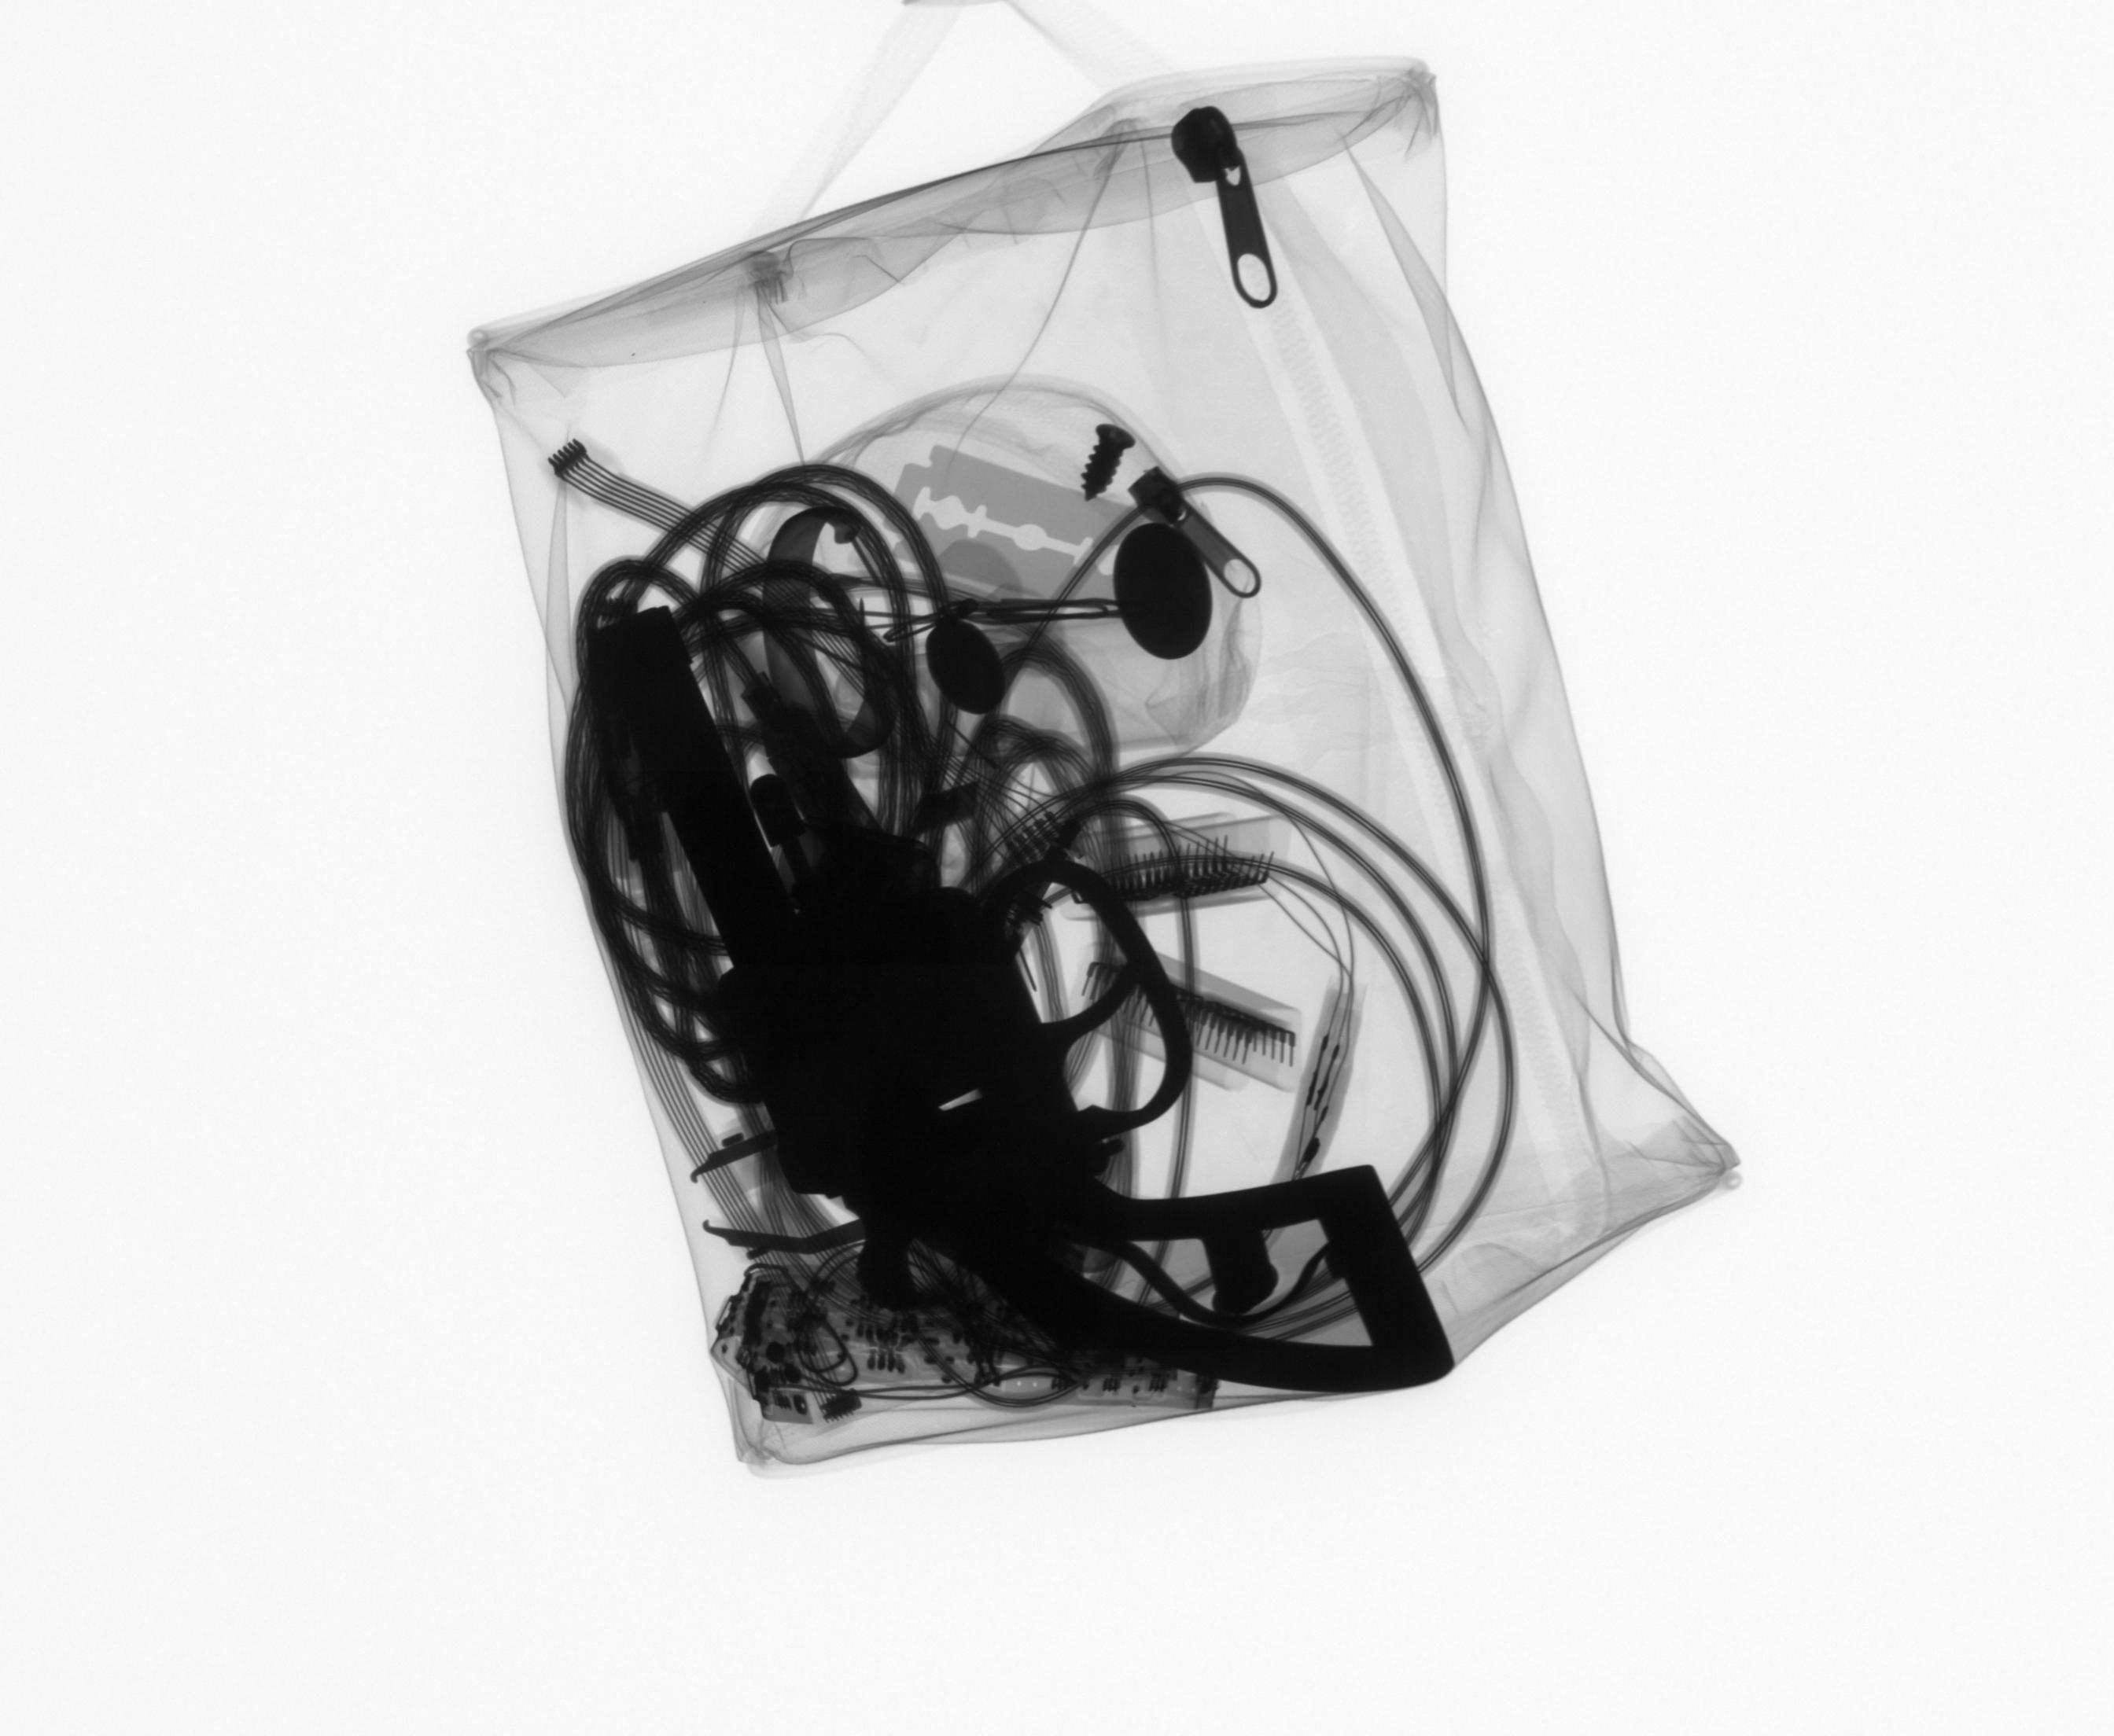Handgun: (567, 597, 1466, 1404)
RazorBlade: (878, 441, 1196, 644)
